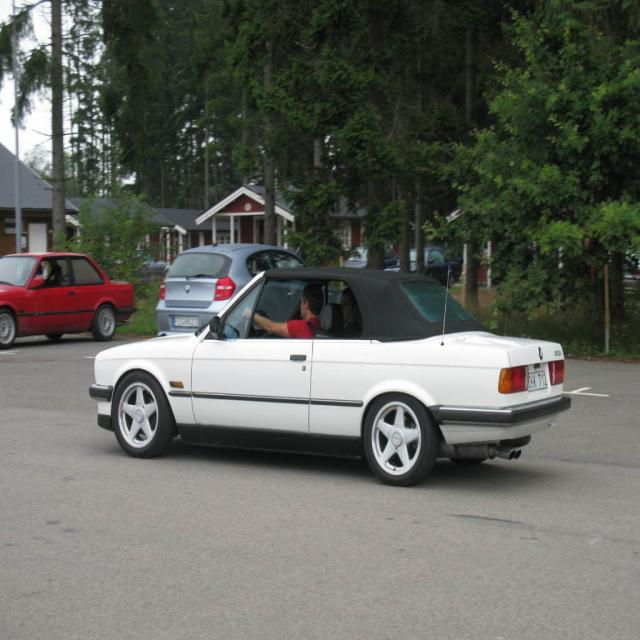other: (91, 263, 570, 485), (156, 242, 305, 335), (0, 251, 139, 349)
